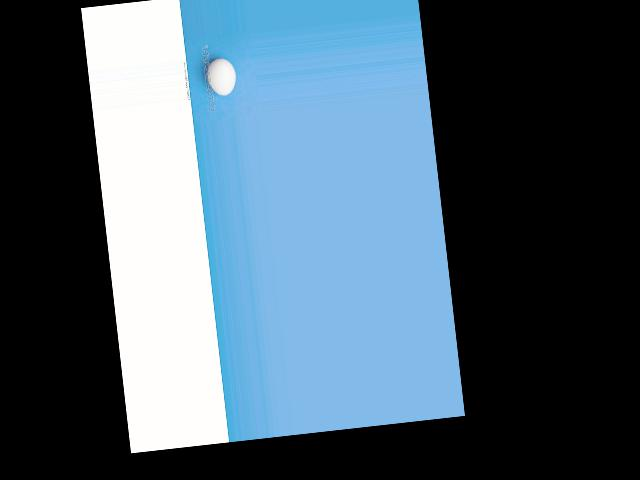egg: (204, 56, 237, 96)
